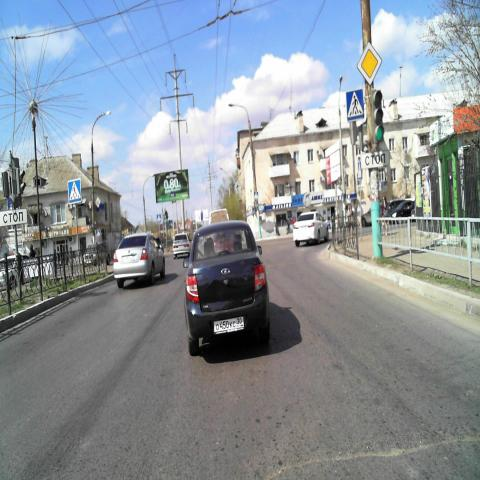6_16: (0, 211, 29, 227)
